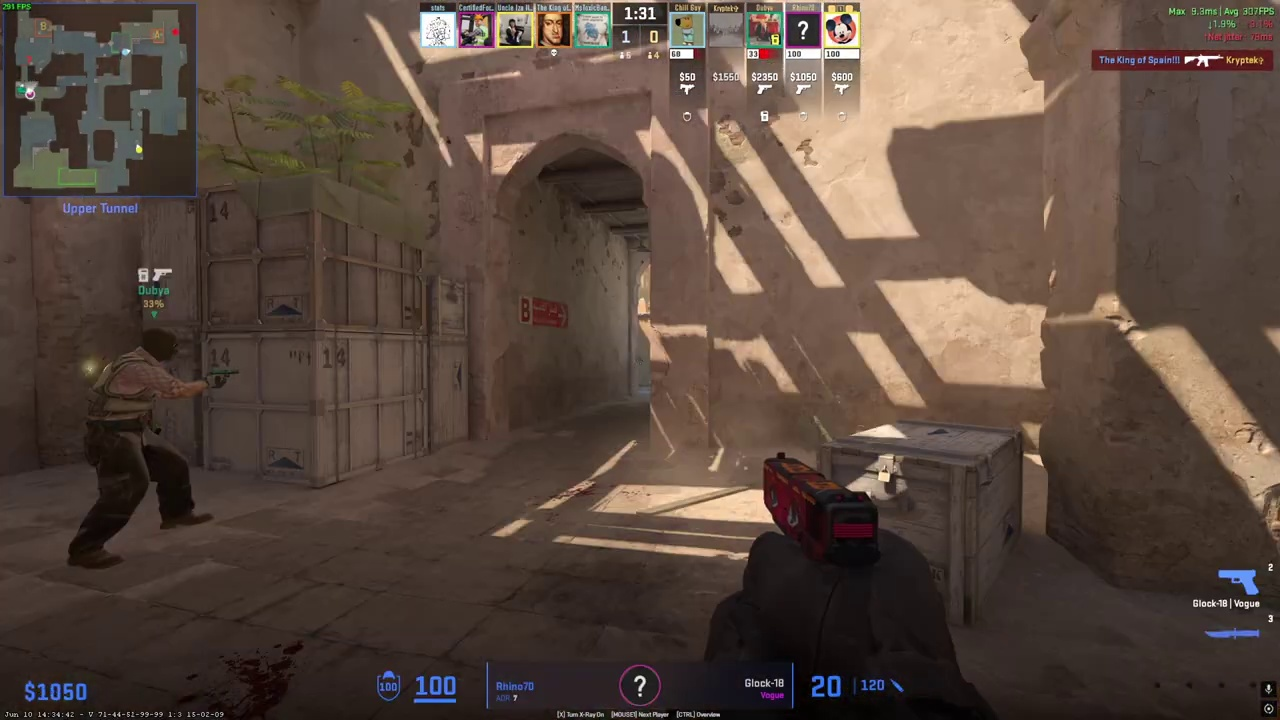Terrorist: (69, 327, 215, 570)
